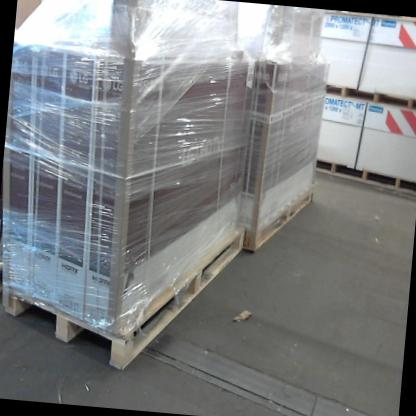pallet: (0, 205, 247, 382), (241, 179, 315, 258)
